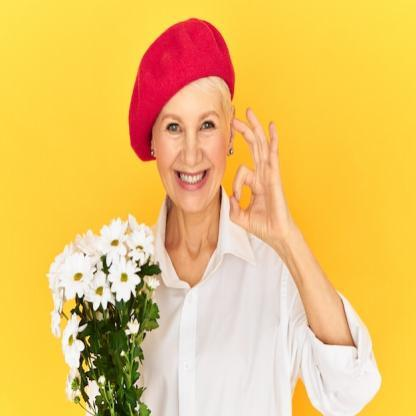ok: (229, 106, 288, 244)
